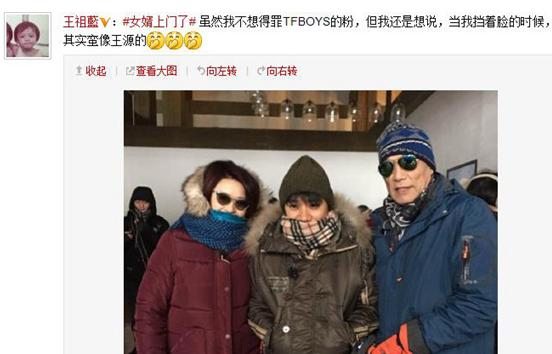NONE: (384, 155, 429, 205), (17, 28, 35, 48), (135, 196, 149, 211)
WRONG: (287, 191, 329, 232), (210, 187, 249, 225)
